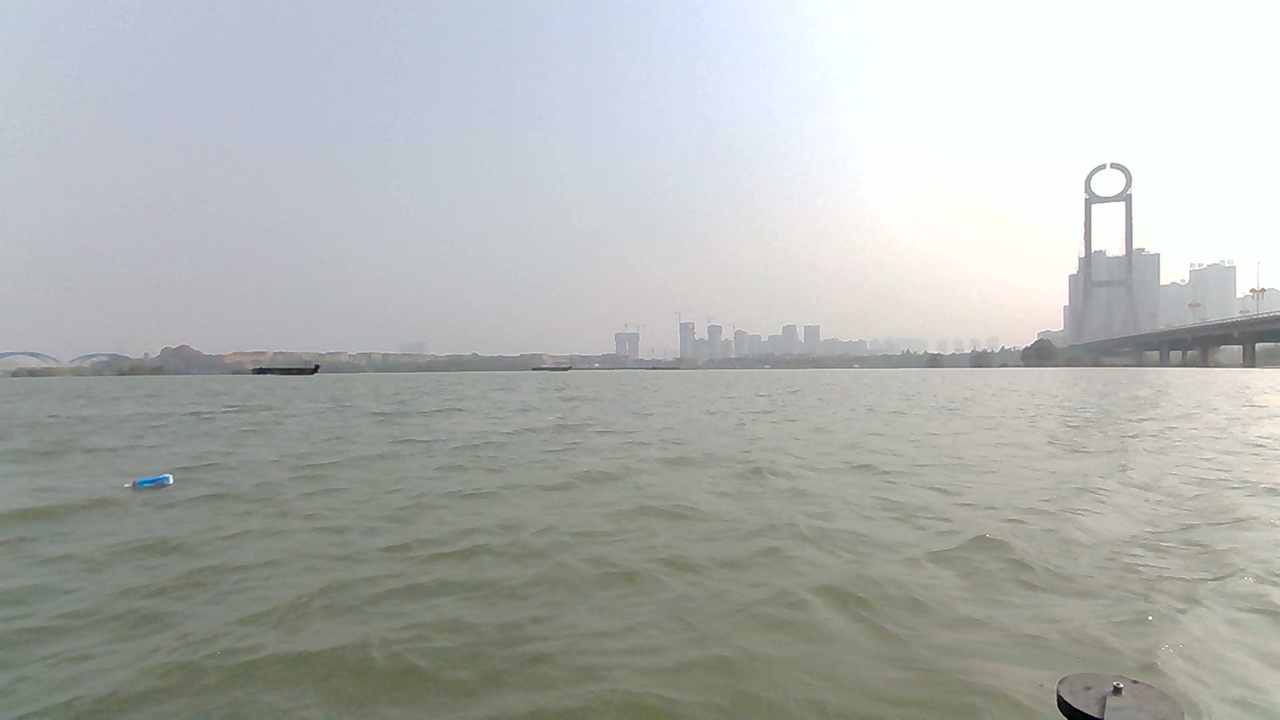bottle: (122, 468, 185, 499)
